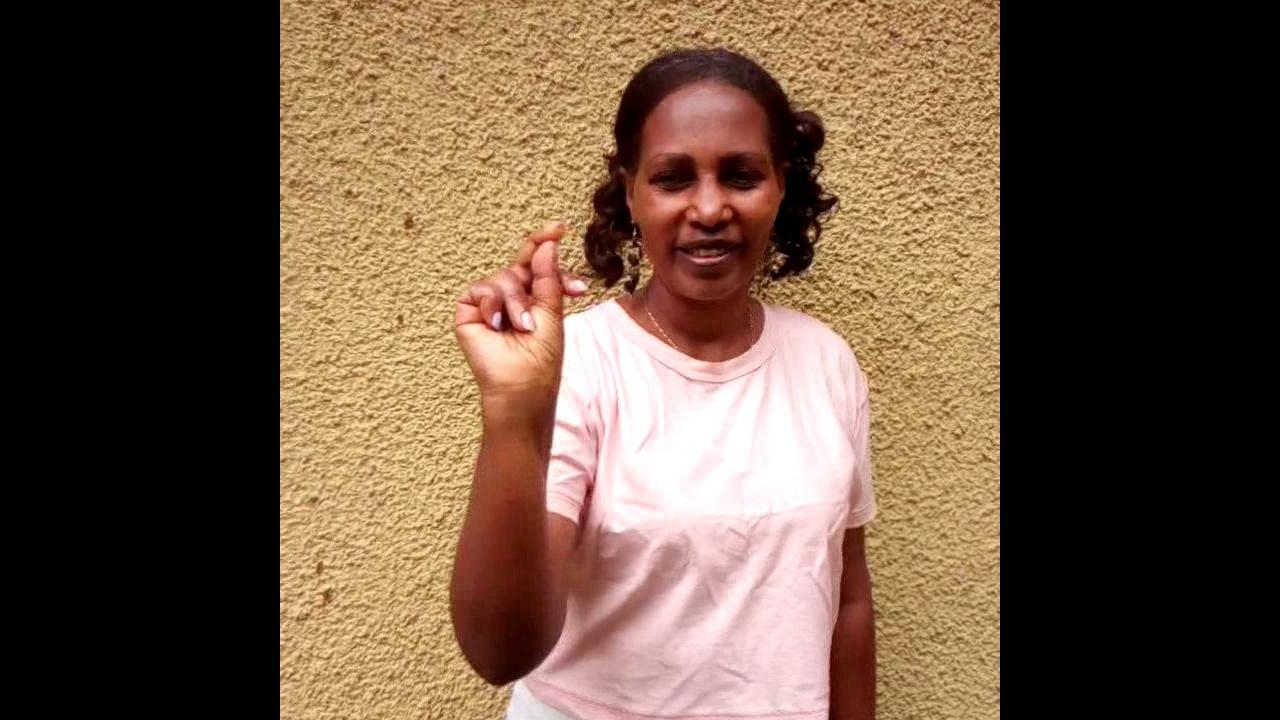CHE: (454, 225, 590, 506)
